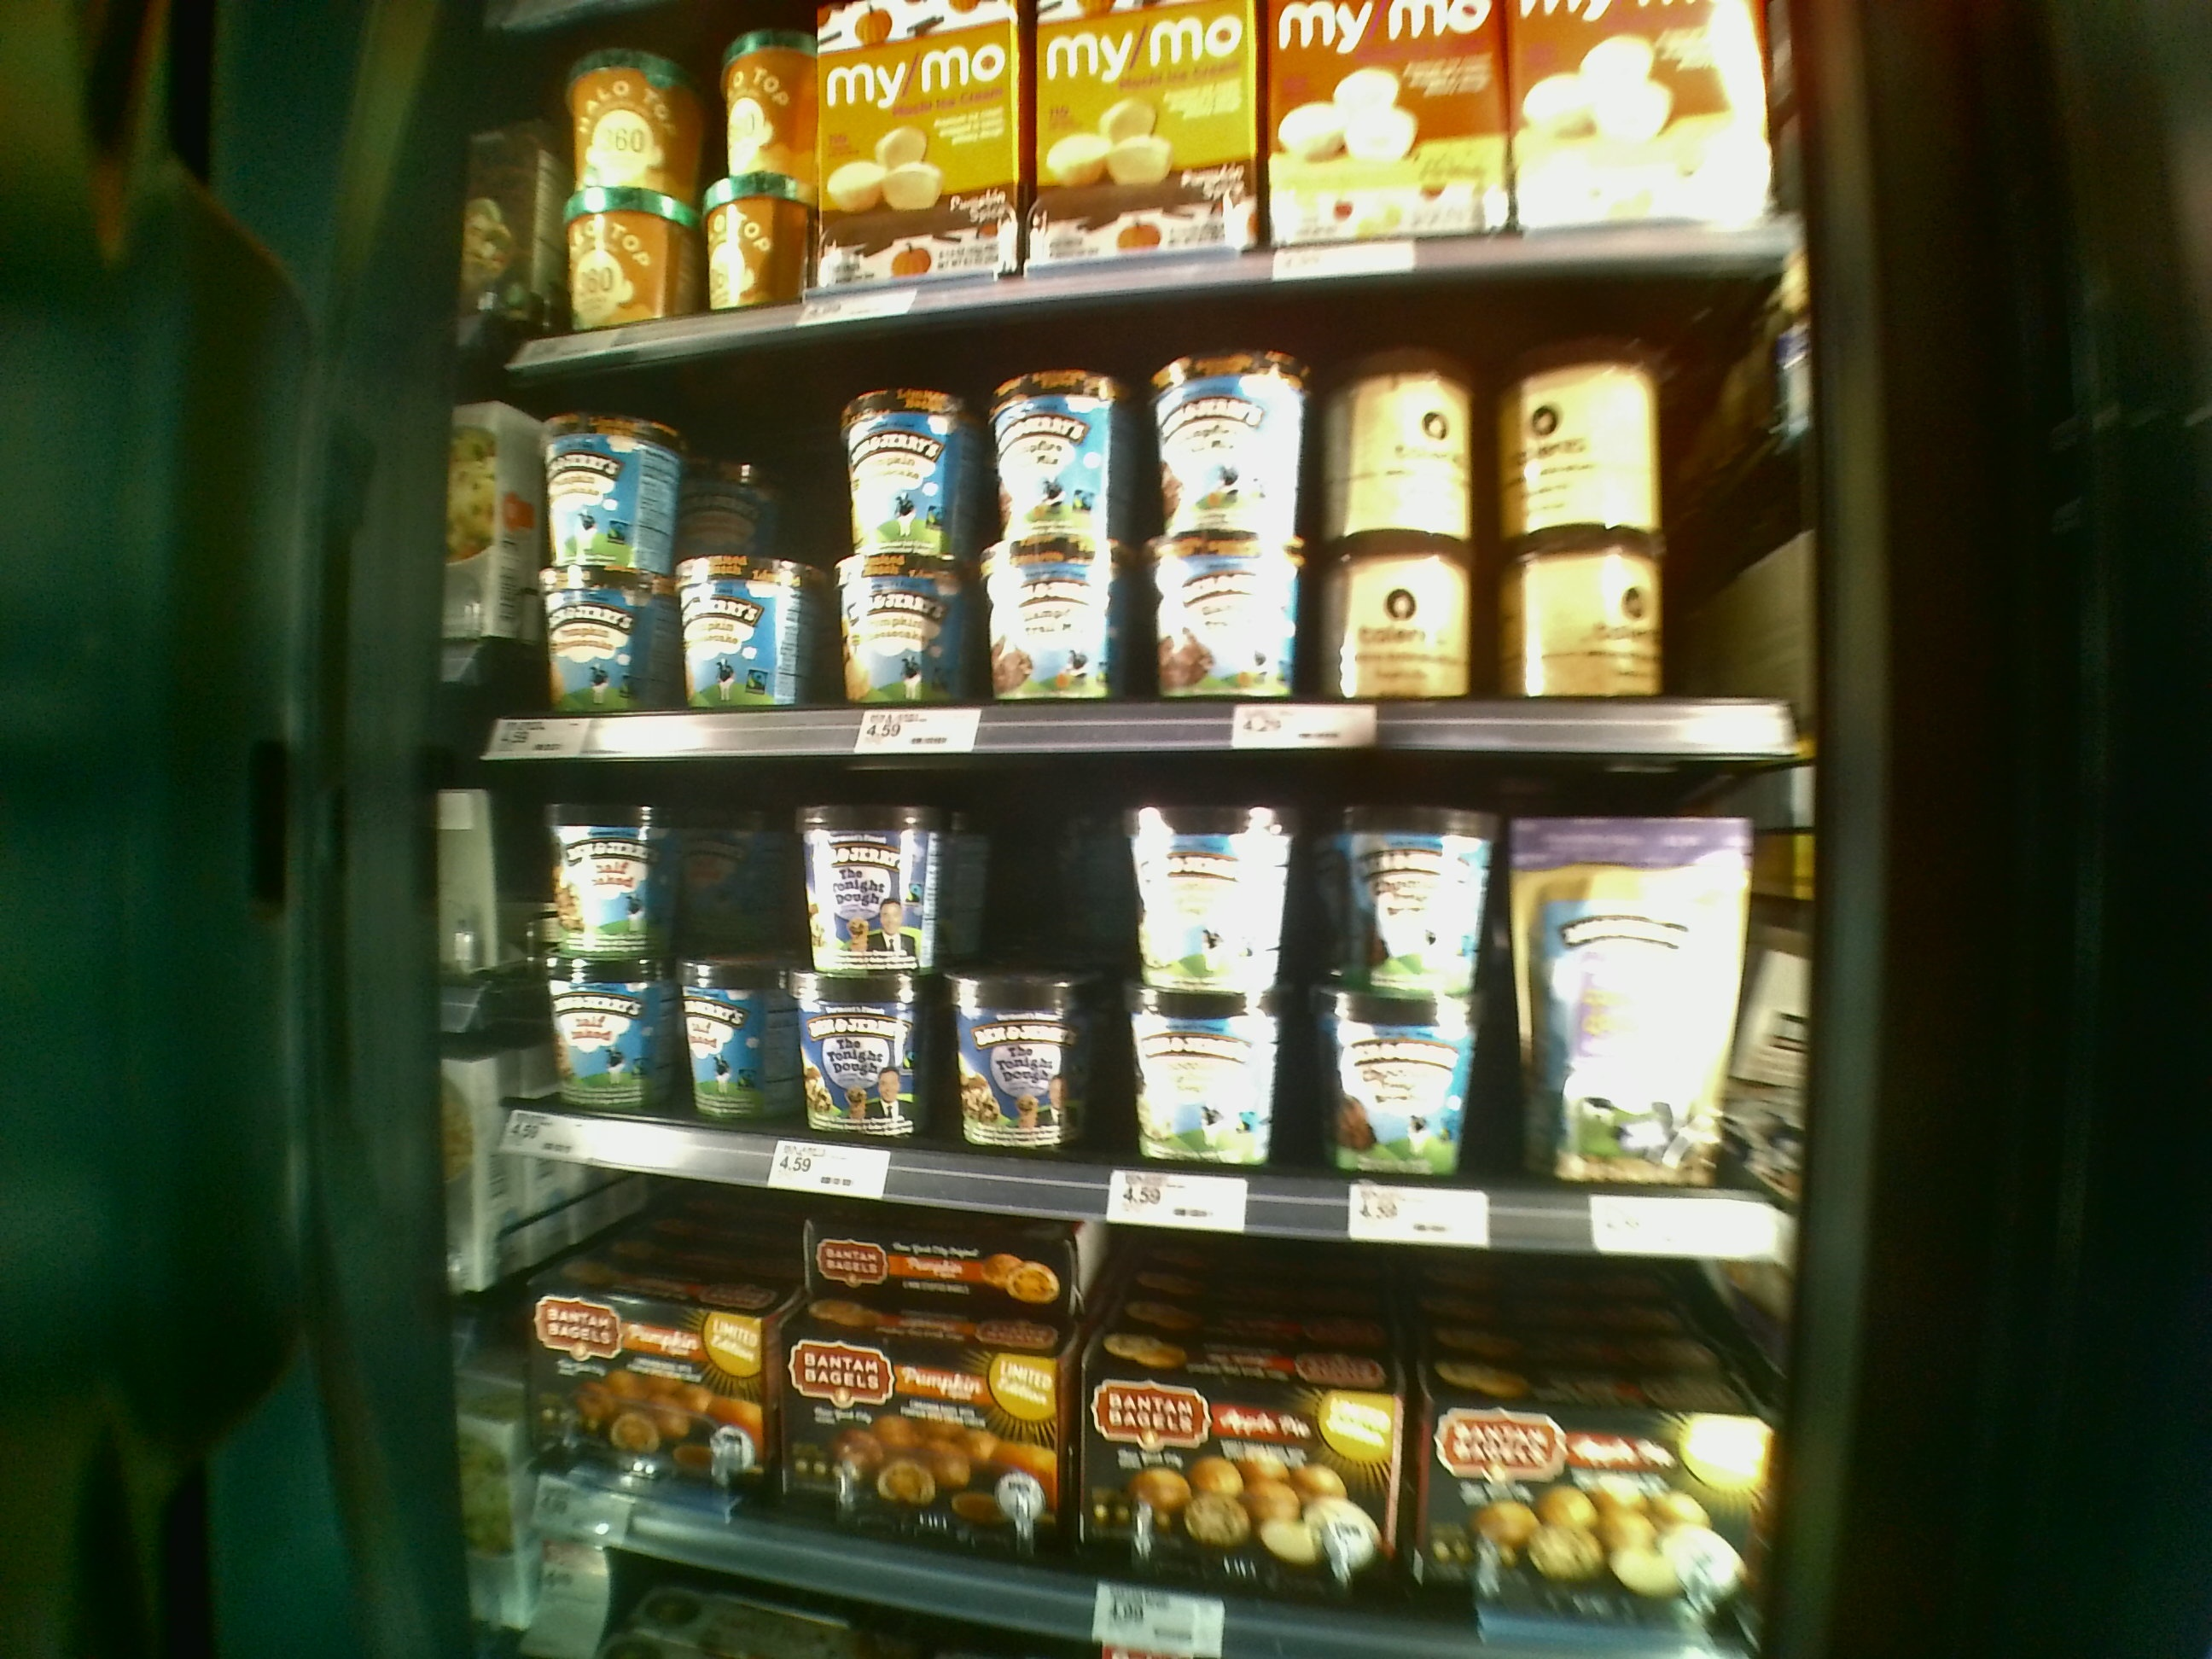shelf: (493, 763, 1787, 1262), (469, 349, 1825, 770)
